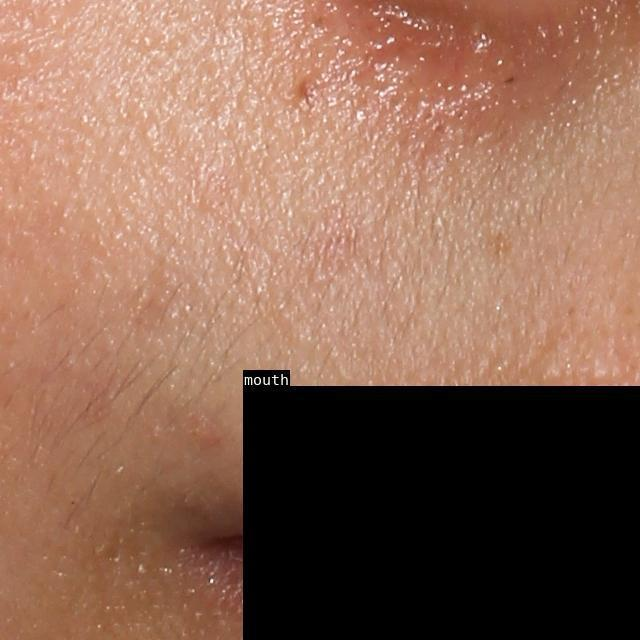nevus: (296, 79, 317, 105)
